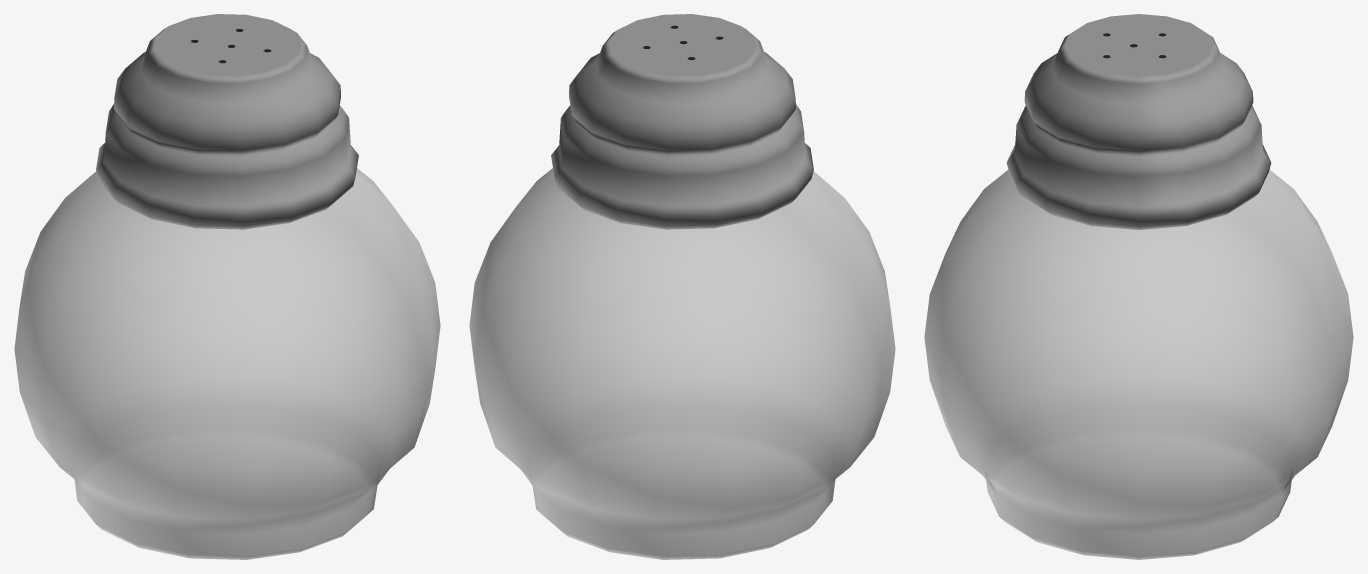
Rendered from salt_empty.fbx.
The picture shows the model from 3 angles, left to right: view 1: azimuth 30°, elevation 25°; view 2: azimuth 150°, elevation 25°; view 3: azimuth 270°, elevation 25°; orthographic projection.
Visible parts, largest first — view 1: salt_empty; view 2: salt_empty; view 3: salt_empty.
Part boxes in pixels (box(x1,y1,x2,y2)): salt_empty: box(14, 14, 440, 559); salt_empty: box(469, 14, 895, 559); salt_empty: box(924, 14, 1353, 559).
Size of the model in its own units: 6.53 by 7.66 by 6.53.
Materials: 2 (1 with a texture image).
